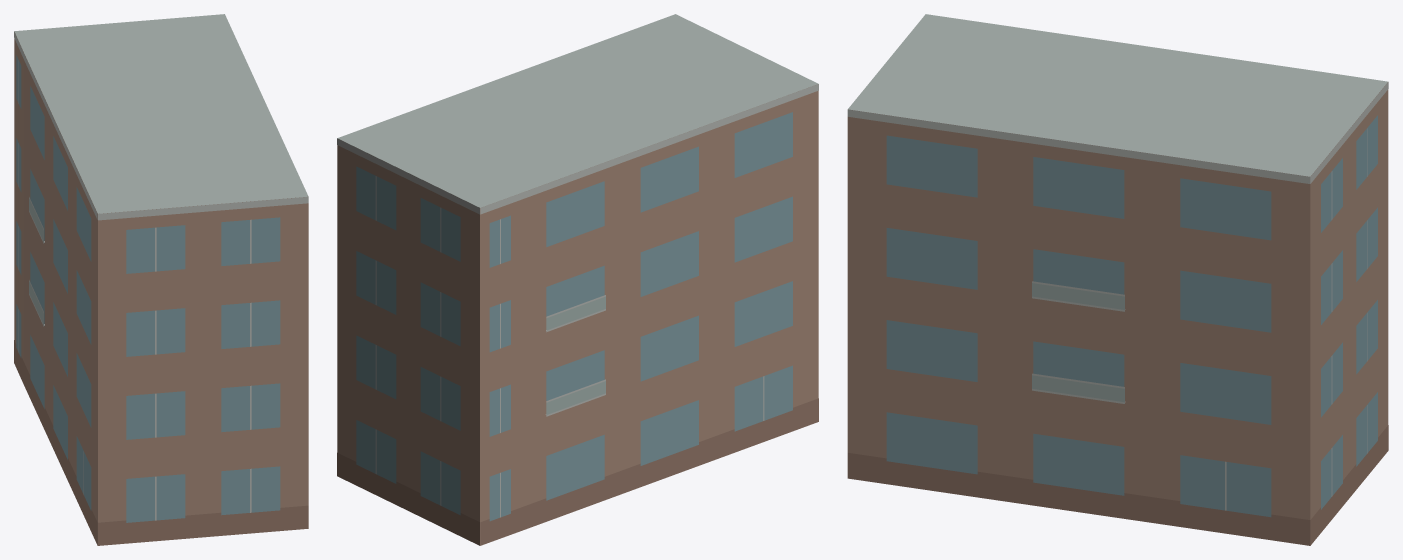
File: residential-7a3e961c-d497-493a-9fc4-84fc1c561208.glb
3 views of the same model, side by side, from view 1: azimuth 30°, elevation 25°; view 2: azimuth 150°, elevation 25°; view 3: azimuth 270°, elevation 25° (orthographic). The views are drawn at different scales.
Visible parts, largest first — view 1: residential-7a3e961c-d497-493a-9fc4-84fc1c561208.tmp; view 2: residential-7a3e961c-d497-493a-9fc4-84fc1c561208.tmp; view 3: residential-7a3e961c-d497-493a-9fc4-84fc1c561208.tmp.
Part boxes in pixels (x1=…): residential-7a3e961c-d497-493a-9fc4-84fc1c561208.tmp: x1=14, y1=14, x2=308, y2=545; residential-7a3e961c-d497-493a-9fc4-84fc1c561208.tmp: x1=337, y1=14, x2=818, y2=545; residential-7a3e961c-d497-493a-9fc4-84fc1c561208.tmp: x1=847, y1=14, x2=1388, y2=545.
Size of the model in its own units: 11.55 by 12.2 by 16.21.
